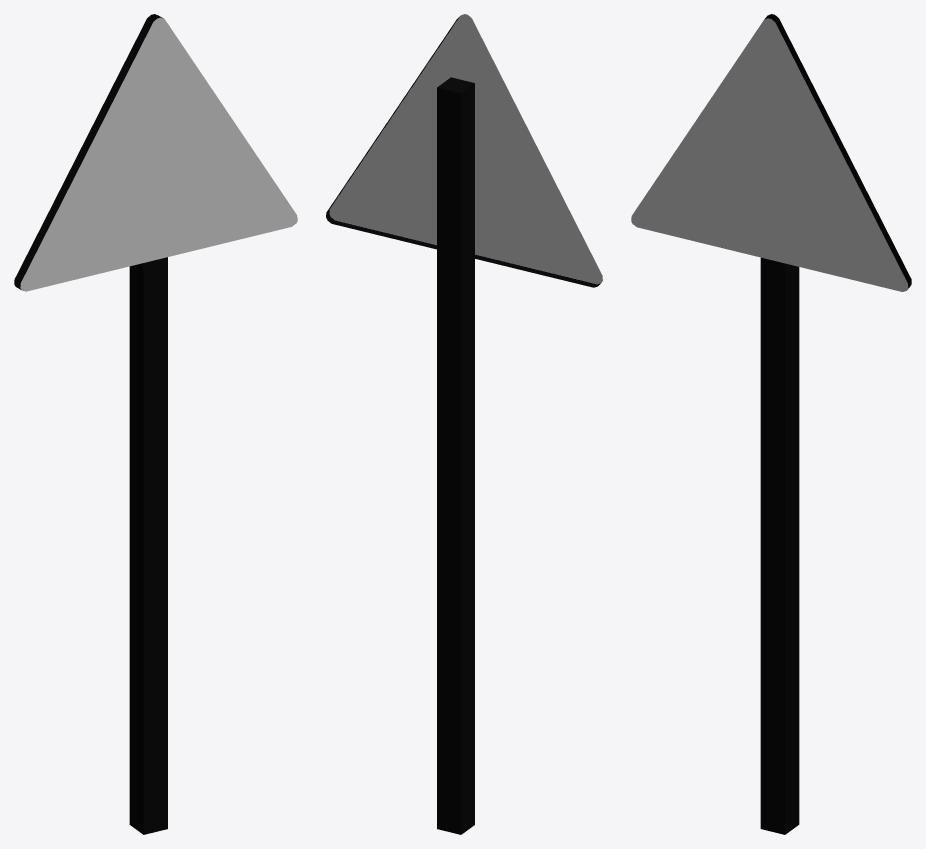
The model's file is roadSignTest.obj.
The picture shows the model from 3 angles, left to right: view 1: azimuth 30°, elevation 25°; view 2: azimuth 150°, elevation 25°; view 3: azimuth 330°, elevation 25°; orthographic projection.
Visible parts, largest first — view 1: Plane.002, Plane.003; view 2: Plane.003, Plane.002; view 3: Plane.002, Plane.003.
Boxes of the visible parts, x1,y1,x2,y2 form: Plane.002: (20,17,297,291); Plane.003: (14,14,296,834); Plane.003: (326,16,600,834); Plane.002: (329,14,602,284); Plane.002: (631,18,908,291); Plane.003: (760,14,911,834).
Bounding box in the file's own units: 2.72 × 7.62 × 0.2927.
